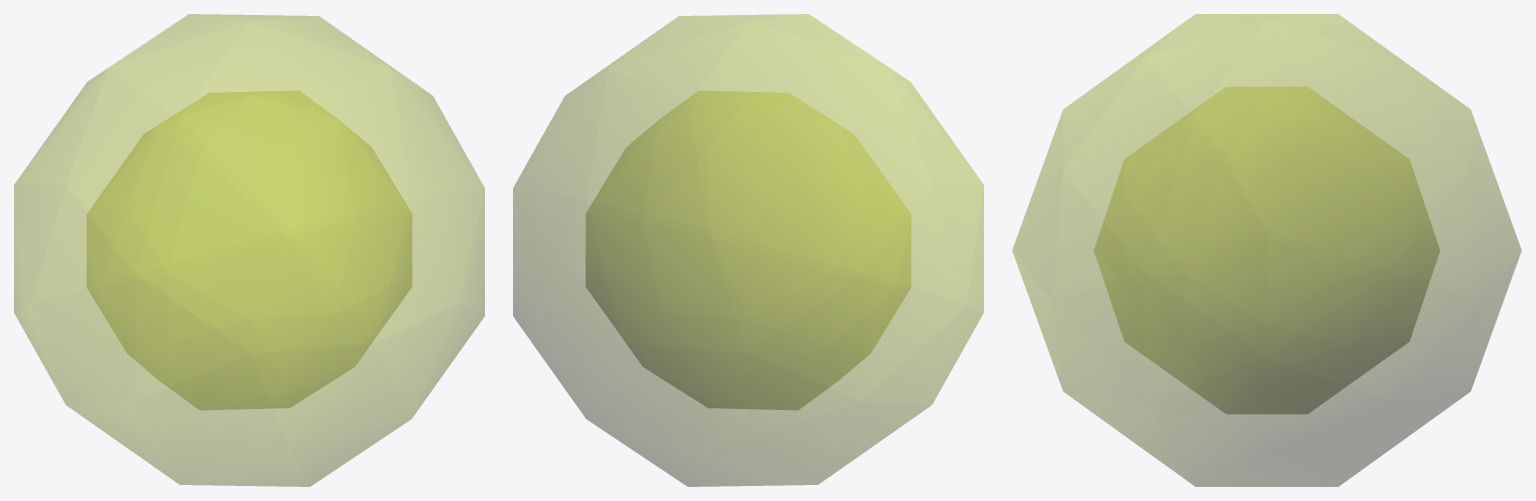
Rendered from xarpus-poison-ball.glb.
3 views of the same model, side by side, from view 1: azimuth 30°, elevation 25°; view 2: azimuth 150°, elevation 25°; view 3: azimuth 270°, elevation 25° (orthographic).
Parts seen in each view (by area): view 1: spot1550_mesh; view 2: spot1550_mesh; view 3: spot1550_mesh.
Boxes of the visible parts, x1,y1,x2,y2 form: spot1550_mesh: (14,14,484,486); spot1550_mesh: (513,14,983,486); spot1550_mesh: (1012,14,1521,486).
Bounding box in the file's own units: 0.3906 × 0.3906 × 0.3906.
